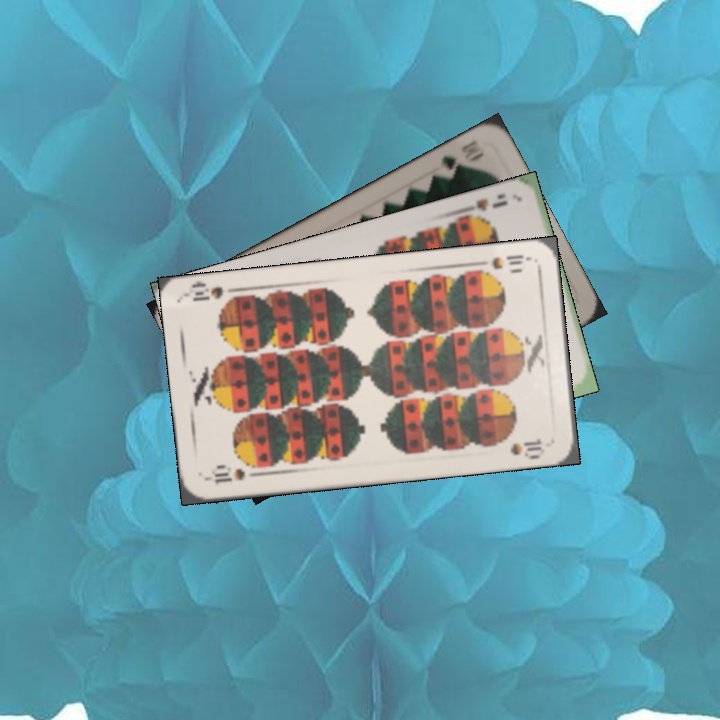G10: (435, 148, 487, 181)
S10: (473, 251, 532, 278), (204, 464, 263, 487)
S9: (457, 194, 511, 219)
